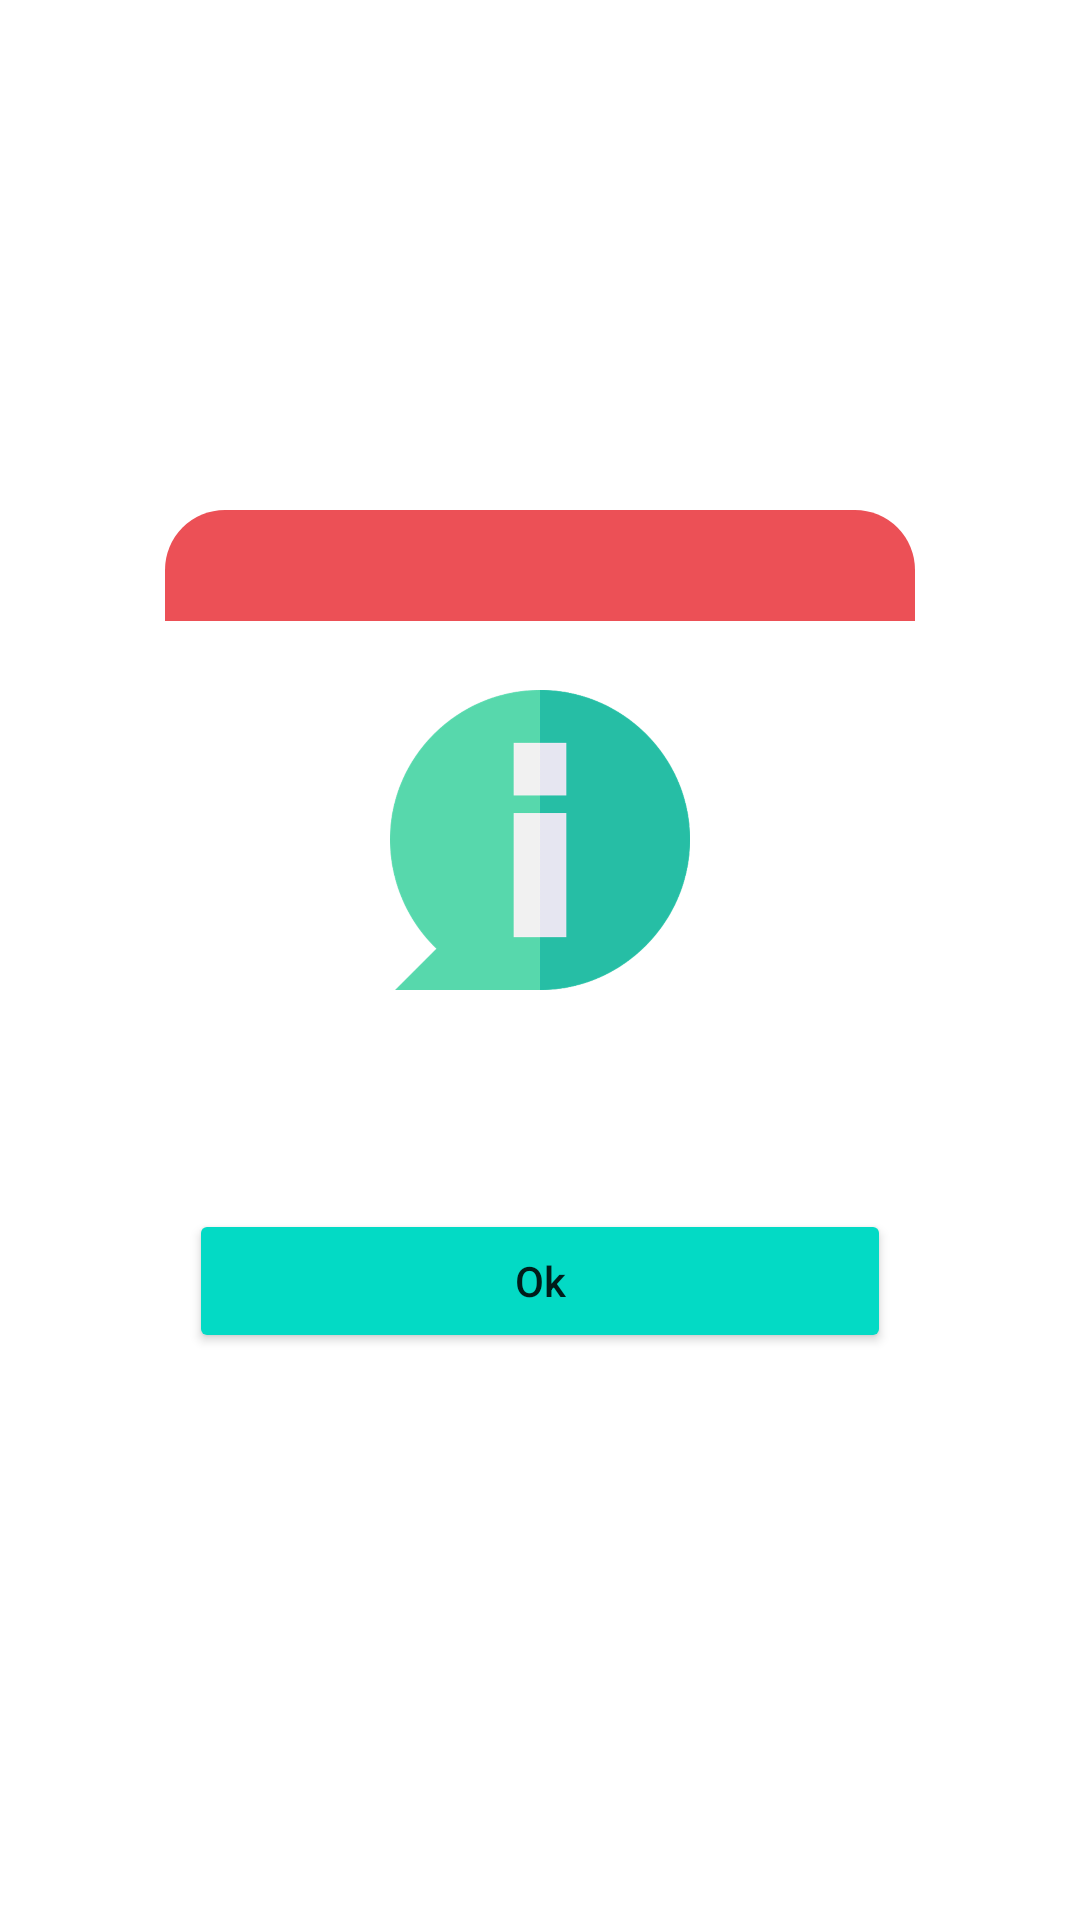

Where to tap for icons on this 1080x1920 app screen, as (x,y):
information: (540,840)
